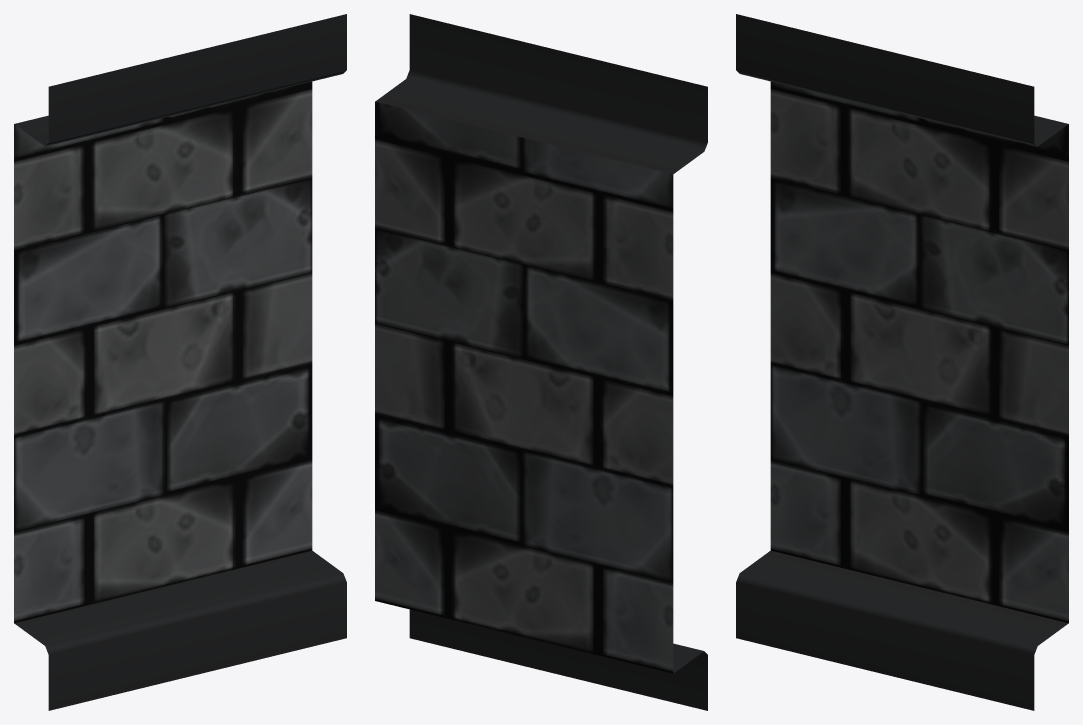
The model's file is M_Wall_Small_Half.fbx.
3 renders of one model, left to right at view 1: azimuth 30°, elevation 25°; view 2: azimuth 150°, elevation 25°; view 3: azimuth 330°, elevation 25°, orthographic.
Visible parts, largest first — view 1: Wall_Small_Half; view 2: Wall_Small_Half; view 3: Wall_Small_Half.
Boxes of the visible parts, x1,y1,x2,y2 form: Wall_Small_Half: (14, 14, 346, 710); Wall_Small_Half: (375, 14, 707, 710); Wall_Small_Half: (736, 14, 1068, 710).
Bounding box in the file's own units: 100 × 200 × 20.
